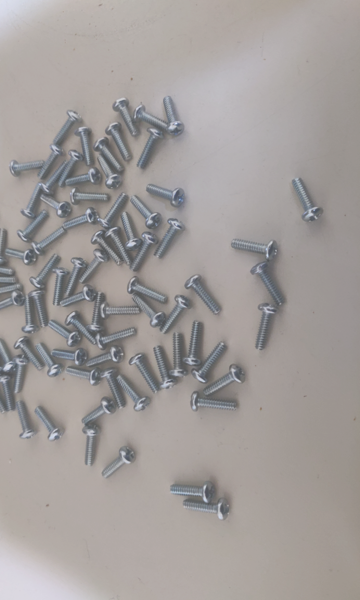shortscrew: (250, 262, 286, 306), (185, 275, 223, 315), (292, 176, 324, 222), (192, 342, 227, 384), (203, 365, 246, 398), (89, 230, 126, 267), (155, 218, 187, 260), (116, 376, 152, 412), (160, 294, 191, 335), (129, 353, 160, 394), (132, 293, 166, 329), (254, 304, 279, 352), (98, 192, 129, 230), (30, 253, 61, 291), (13, 337, 46, 372), (100, 368, 127, 410), (138, 127, 165, 169), (127, 277, 169, 304), (80, 248, 110, 285), (183, 498, 231, 521), (65, 311, 97, 345), (101, 448, 136, 479), (35, 407, 66, 442), (53, 111, 83, 147), (130, 195, 161, 229), (105, 122, 132, 161), (104, 227, 131, 266), (94, 138, 124, 173), (32, 226, 68, 255), (36, 342, 65, 378), (170, 482, 217, 504), (112, 97, 138, 136), (59, 150, 85, 189), (154, 346, 177, 390), (81, 398, 117, 426), (47, 320, 83, 348), (18, 210, 47, 244), (40, 160, 68, 195), (232, 240, 278, 261), (182, 321, 203, 367), (190, 392, 240, 411), (96, 328, 138, 350), (85, 345, 125, 368), (147, 184, 185, 208), (86, 292, 107, 334), (121, 212, 143, 252), (62, 207, 100, 230), (21, 183, 45, 219), (66, 257, 87, 298), (40, 145, 66, 178), (134, 104, 168, 129), (15, 400, 36, 440), (98, 154, 122, 189), (165, 96, 185, 137), (60, 284, 97, 306), (74, 126, 94, 166), (100, 302, 142, 321), (169, 334, 187, 377), (40, 194, 72, 218), (83, 424, 100, 468), (66, 366, 103, 386), (70, 188, 111, 206), (12, 355, 30, 395), (28, 290, 47, 327), (21, 295, 39, 334), (66, 167, 101, 186), (51, 267, 68, 306), (52, 348, 88, 366), (10, 159, 45, 177), (0, 337, 17, 373), (5, 248, 37, 266), (0, 290, 26, 311), (0, 283, 23, 301), (0, 228, 9, 266), (0, 272, 18, 288), (0, 258, 15, 277), (0, 379, 8, 414), (0, 339, 5, 376)
